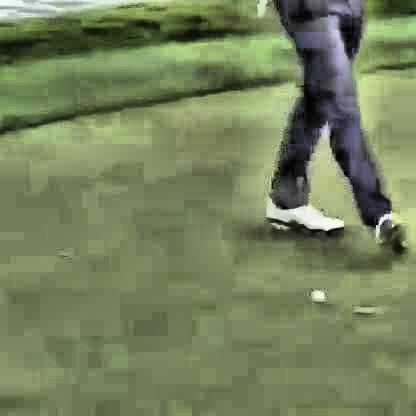golfball: (306, 287, 322, 300)
